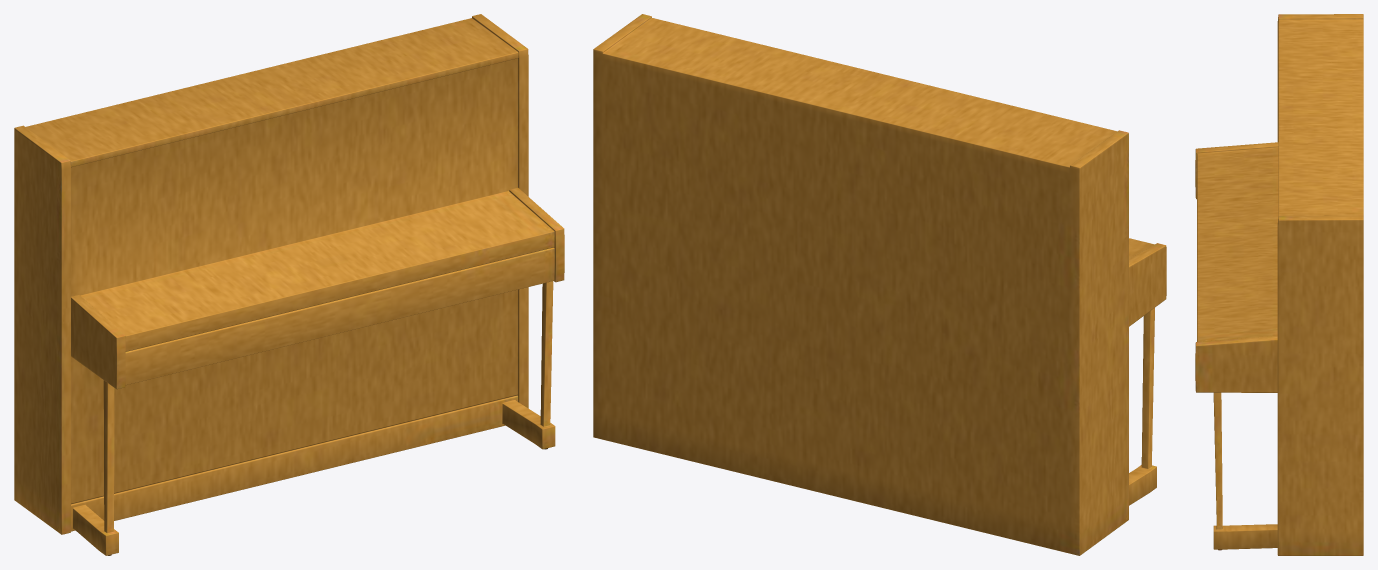
Rendered from p_piano.glb.
3 views of the same model, side by side, from view 1: azimuth 30°, elevation 25°; view 2: azimuth 150°, elevation 25°; view 3: azimuth 270°, elevation 25° (orthographic). The views are drawn at different scales.
Visible parts, largest first — view 1: Piano; view 2: Piano; view 3: Piano.
Part boxes in pixels (x1,y1,x2,y2): Piano: [14, 14, 564, 555]; Piano: [593, 14, 1166, 555]; Piano: [1195, 14, 1363, 555].
Size of the model in its own units: 14.5 by 11.05 by 5.01.
1 material, 1 textured.
